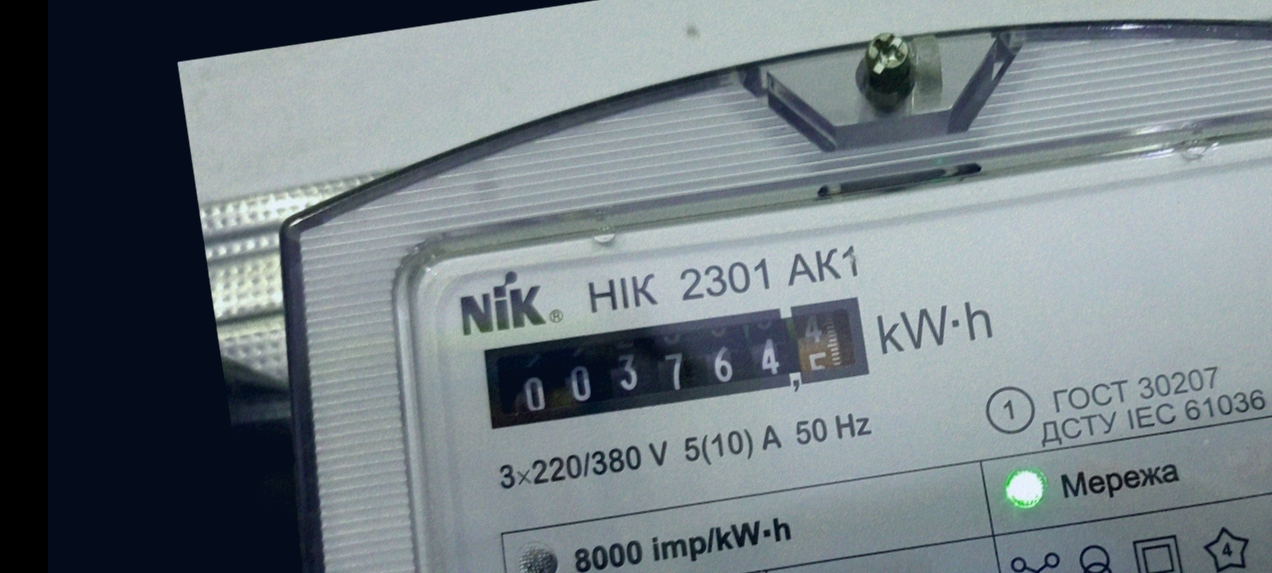0: (566, 362, 594, 404), (519, 373, 548, 413)
3: (613, 351, 641, 393)
4: (757, 336, 782, 377), (800, 311, 826, 345)
5: (805, 349, 830, 373)
6: (710, 343, 736, 385)
7: (661, 348, 690, 393)
screen: (464, 277, 886, 446)
